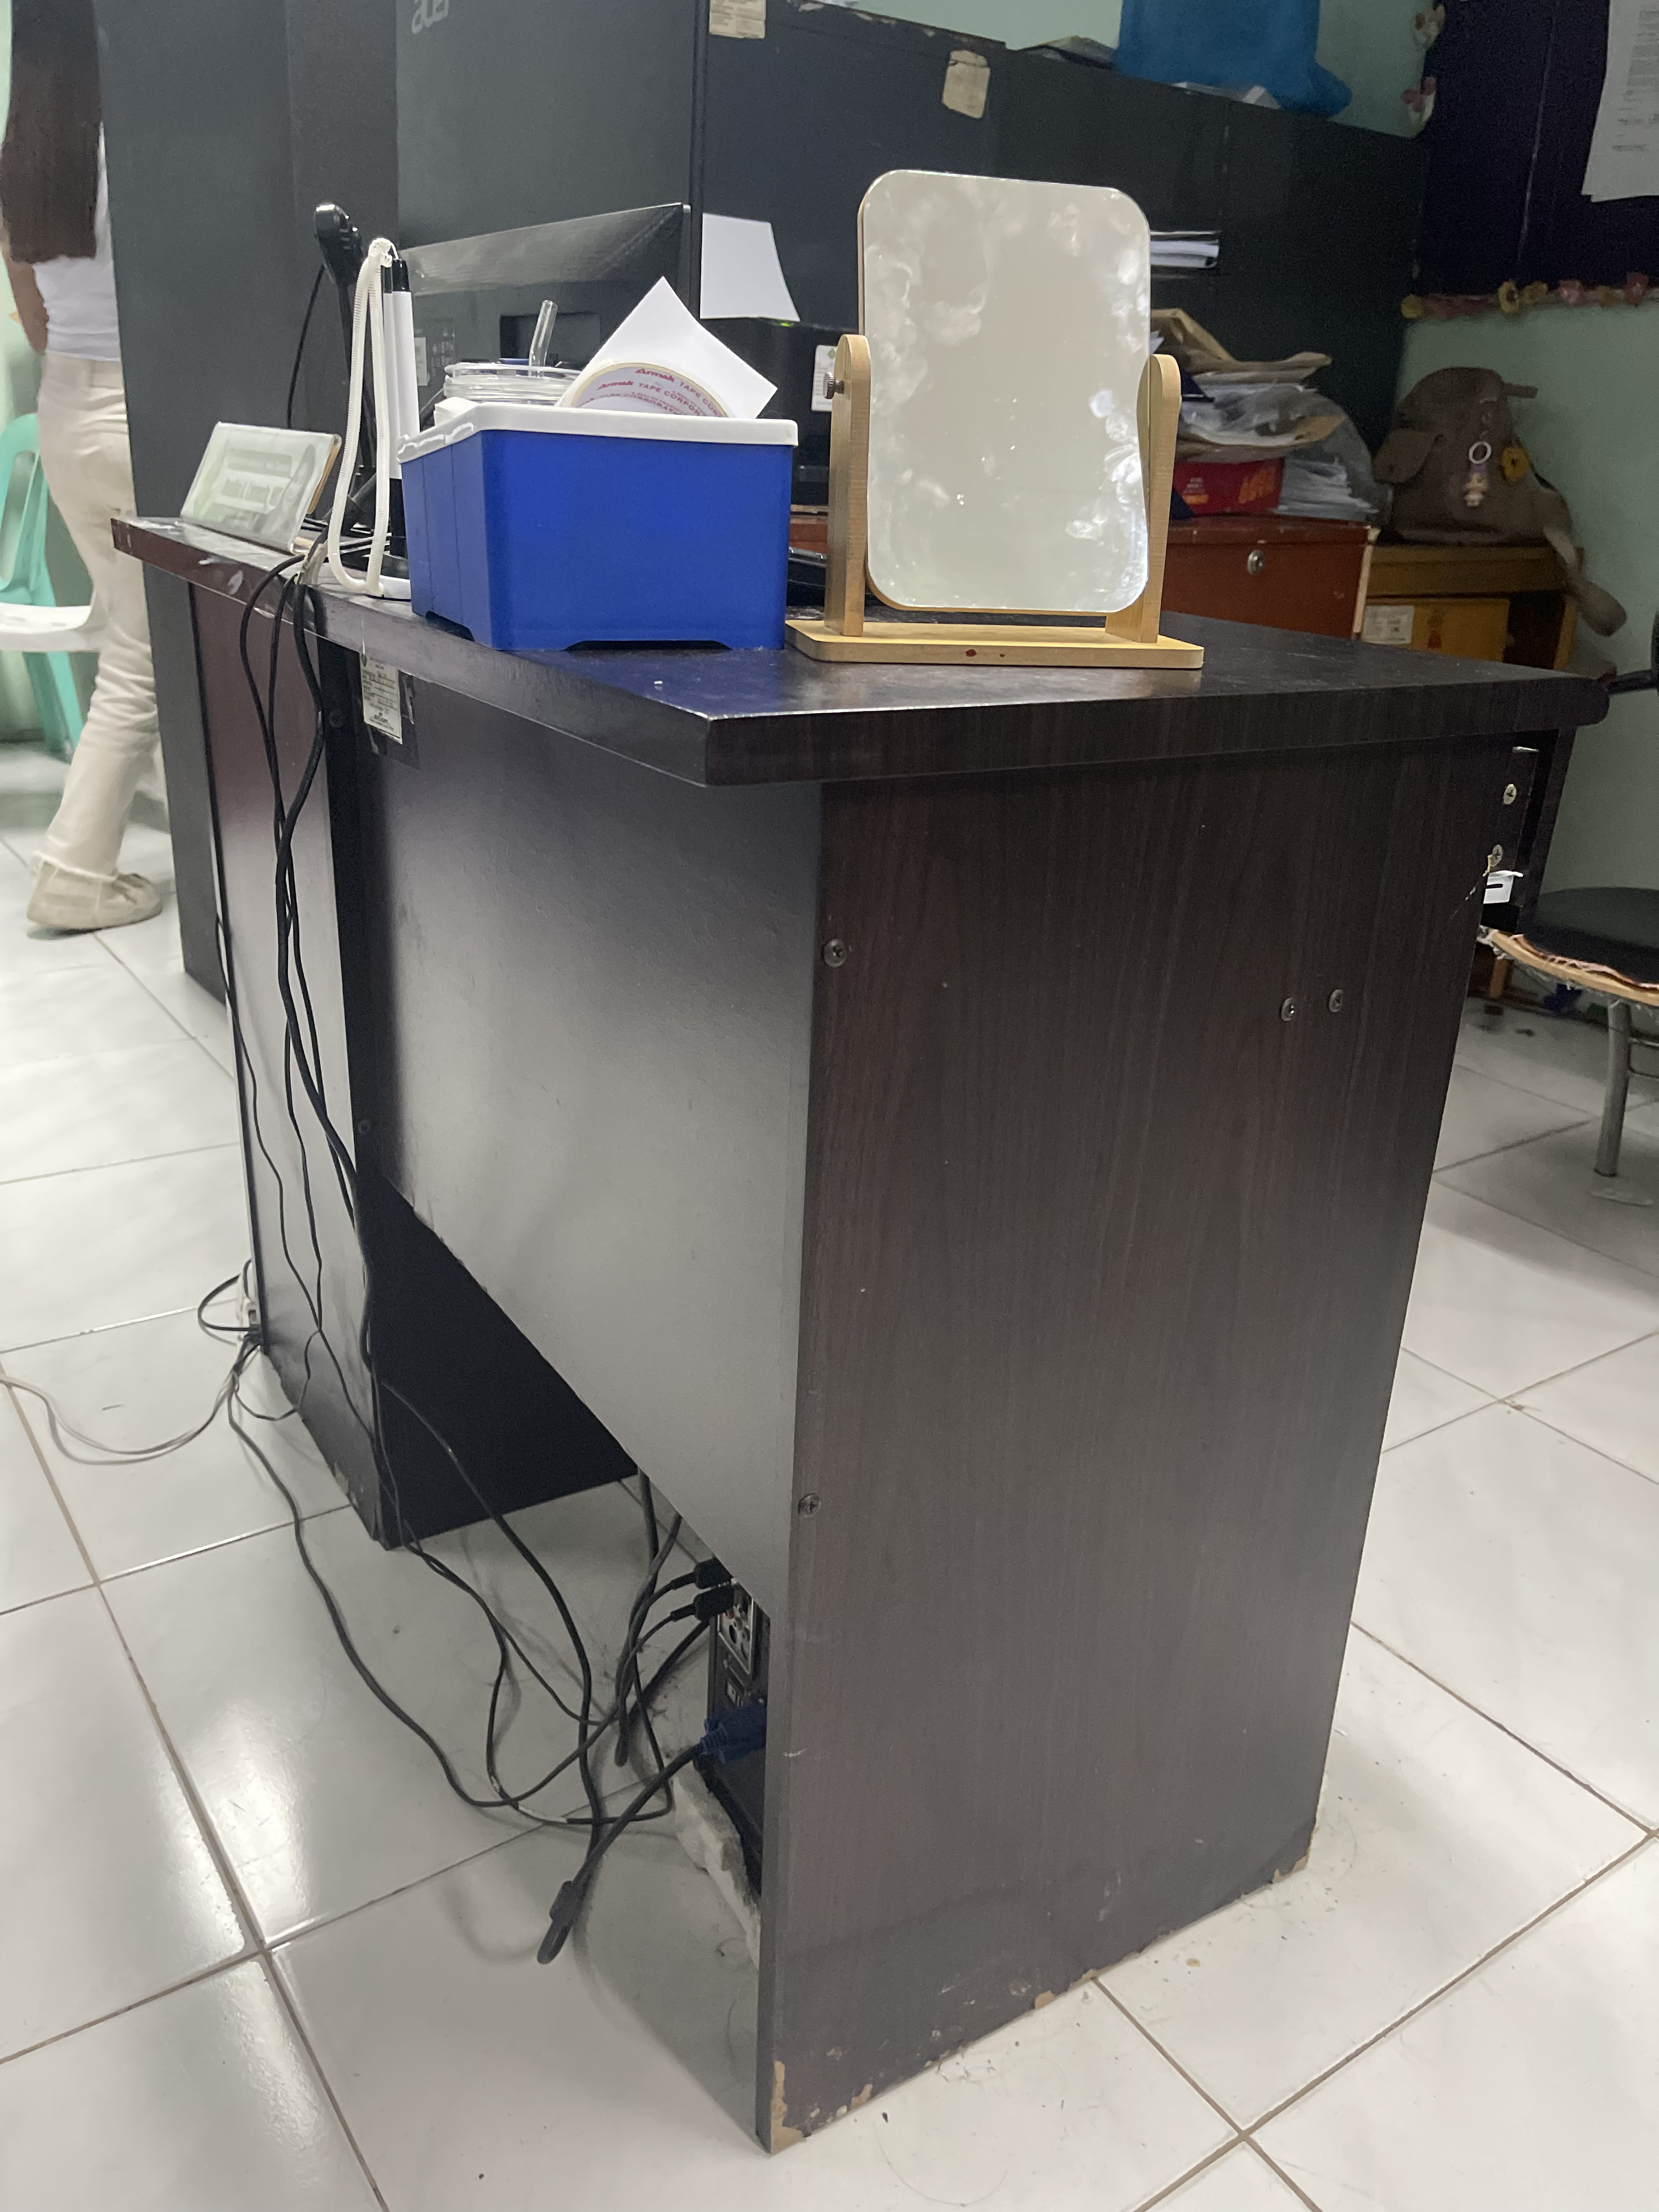table1: (85, 500, 1659, 2146)
